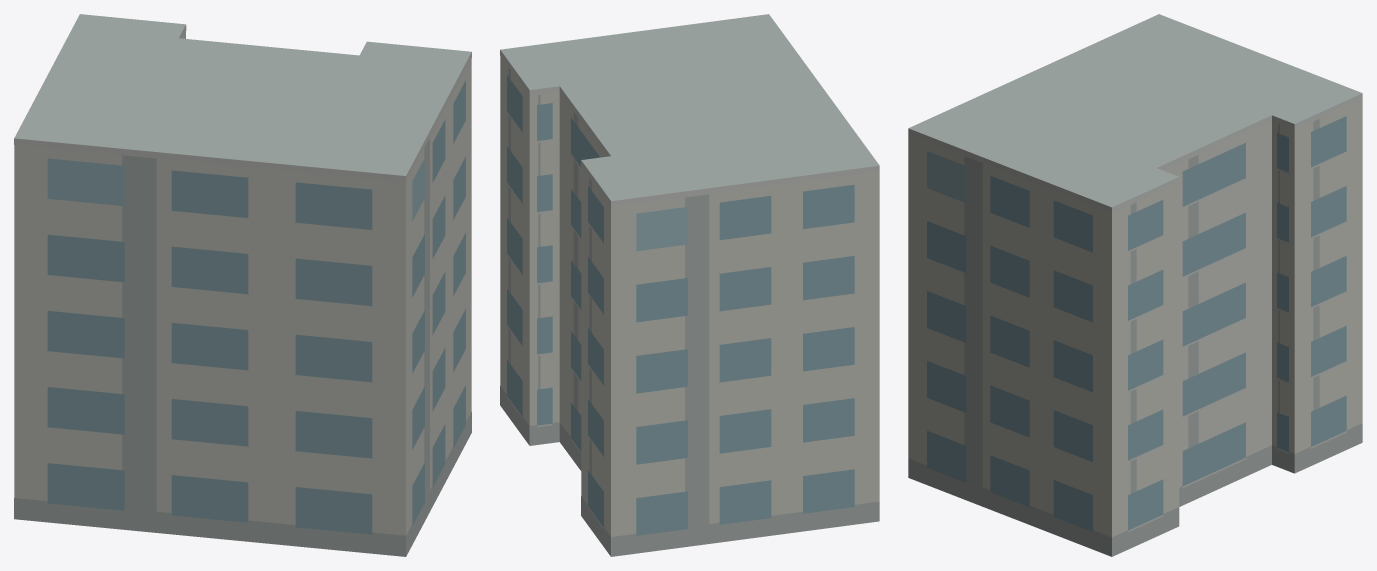
The model's file is survey-upis-32888370.glb.
3 views of the same model, side by side, from view 1: azimuth 30°, elevation 25°; view 2: azimuth 150°, elevation 25°; view 3: azimuth 270°, elevation 25° (orthographic). The views are drawn at different scales.
Visible parts, largest first — view 1: survey-upis-32888370.tmp; view 2: survey-upis-32888370.tmp; view 3: survey-upis-32888370.tmp.
Boxes of the visible parts, left/top/right/bottom form: survey-upis-32888370.tmp: left=14, top=14, right=471, bottom=556; survey-upis-32888370.tmp: left=500, top=14, right=879, bottom=556; survey-upis-32888370.tmp: left=908, top=14, right=1362, bottom=556.
Size of the model in its own units: 16.93 by 14.25 by 16.8.
